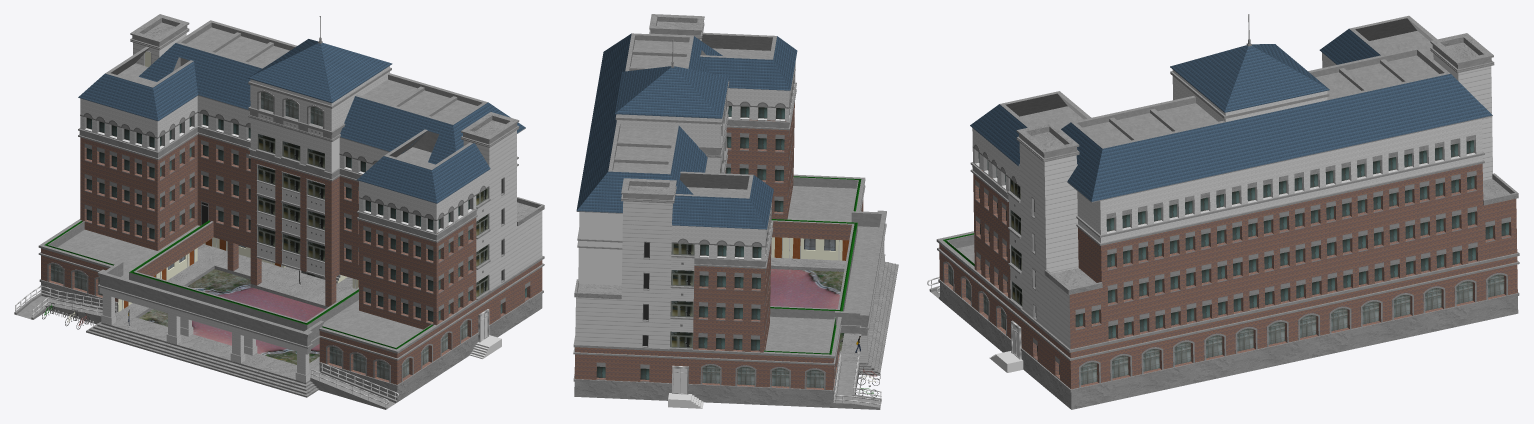
File: 人文館.glb
3 renders of one model, left to right at view 1: azimuth 30°, elevation 25°; view 2: azimuth 150°, elevation 25°; view 3: azimuth 270°, elevation 25°, orthographic. The views are drawn at different scales.
Visible parts, largest first — view 1: _G-Object.021 (Loose Mesh), G-Object.007, G-Object.008, G-Object.006, G-Object.009, C-組件#9.001, C-組件#9, G-Object.004, G-Object.012, G-Object.029, G-Object.001, G-Object.003 (+13 smaller); view 2: _G-Object.021 (Loose Mesh), G-Object.007, G-Object.008, G-Object.006, G-Object.009, C-組件#9, C-組件#9.001, G-Object.004, G-Object.012, G-Object.001, G-Object.002, C-組件#10 (+13 smaller); view 3: _G-Object.021 (Loose Mesh), G-Object.008, G-Object.009, C-組件#9.001, C-組件#9, G-Object.005, G-Object.001, G-Object.002, G-Object.007, C-組件#10, C-組件#10.001, G-Object.010 (+13 smaller).
Boxes of the visible parts, bbox=[...] form: _G-Object.021 (Loose Mesh): bbox=[39, 15, 544, 402]; G-Object.007: bbox=[41, 220, 436, 358]; G-Object.008: bbox=[139, 20, 525, 164]; G-Object.006: bbox=[86, 261, 324, 397]; G-Object.009: bbox=[248, 16, 392, 102]; C-組件#9.001: bbox=[357, 129, 490, 203]; C-組件#9: bbox=[78, 46, 197, 120]; G-Object.004: bbox=[78, 126, 477, 242]; G-Object.012: bbox=[14, 292, 117, 323]; G-Object.029: bbox=[310, 371, 397, 409]; G-Object.001: bbox=[38, 219, 544, 353]; G-Object.003: bbox=[248, 106, 345, 141]; _G-Object.021 (Loose Mesh): bbox=[573, 14, 863, 407]; G-Object.007: bbox=[763, 175, 886, 363]; G-Object.008: bbox=[576, 33, 722, 213]; G-Object.006: bbox=[770, 257, 898, 375]; G-Object.009: bbox=[615, 39, 729, 118]; C-組件#9: bbox=[672, 171, 773, 229]; C-組件#9.001: bbox=[700, 32, 797, 90]; G-Object.004: bbox=[694, 82, 796, 268]; G-Object.012: bbox=[833, 360, 881, 409]; G-Object.001: bbox=[573, 174, 865, 358]; G-Object.002: bbox=[573, 185, 865, 365]; C-組件#10: bbox=[621, 178, 676, 203]; _G-Object.021 (Loose Mesh): bbox=[938, 34, 1519, 409]; G-Object.008: bbox=[1061, 47, 1492, 202]; G-Object.009: bbox=[1170, 14, 1329, 112]; C-組件#9.001: bbox=[970, 91, 1091, 166]; C-組件#9: bbox=[1319, 15, 1436, 64]; G-Object.005: bbox=[1076, 151, 1484, 245]; G-Object.001: bbox=[936, 231, 1519, 352]; G-Object.002: bbox=[937, 247, 1519, 360]; G-Object.007: bbox=[939, 232, 974, 277]; C-組件#10: bbox=[1430, 33, 1494, 72]; C-組件#10.001: bbox=[1016, 122, 1079, 162]; G-Object.010: bbox=[1170, 71, 1329, 118].
Size of the model in its own units: 48.22 by 31.42 by 53.06.
28 materials, 14 textured.
